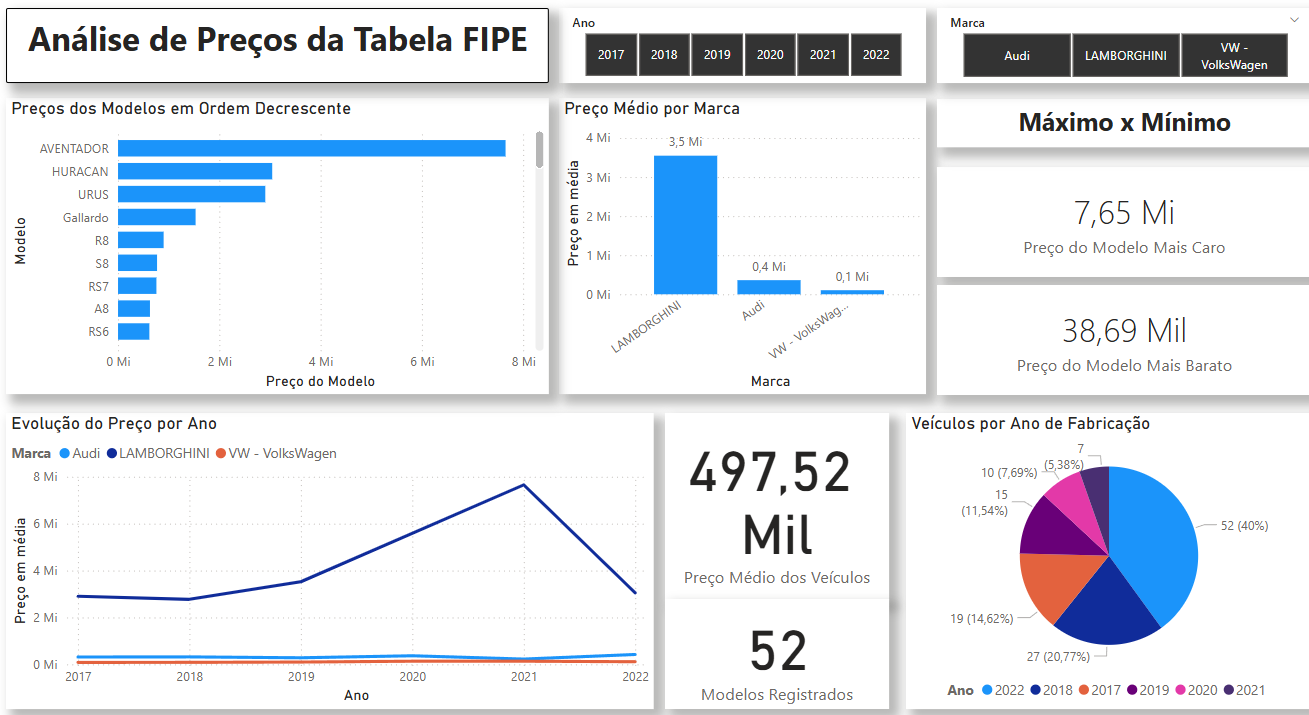

This screenshot's page, from the dashboard's own definition file:
{"tool":"powerbi","page":{"name":"Dashboard Fipe","canvas":[1280,720],"ordinal":0},"visuals":[{"type":"clusteredColumnChart","title":"Preço Médio por Marca","fields":{"Category":["tabela-fipe-tratado.Marca"],"Y":["Avg(tabela-fipe-tratado.Valor medio)"]},"box":[547.6,101.2,357,287.9],"z":0},{"type":"slicer","fields":{"Values":["tabela-fipe-tratado.Ano Modelo"]},"box":[548,13.3,357.3,72.7],"z":1000},{"type":"lineChart","title":"Evolução do Preço por Ano","fields":{"Y":["Avg(tabela-fipe-tratado.Valor medio)"],"Category":["tabela-fipe-tratado.Ano Modelo"],"Series":["tabela-fipe-tratado.Marca"]},"box":[9.7,407.5,630.3,287.9],"z":2000},{"type":"barChart","title":"Preços dos Modelos em Ordem Decrescente","fields":{"Category":["tabela-fipe-tratado.Modelo Base"],"Y":["Max(tabela-fipe-tratado.Valor medio)"]},"box":[9.7,101.2,528.1,287.9],"z":3000},{"type":"textbox","box":[9.8,13.3,528.5,72.7],"z":4000},{"type":"card","fields":{"Values":["Max(tabela-fipe-tratado.Valor medio)"]},"box":[915.3,168.3,364.7,107],"z":5000},{"type":"card","fields":{"Values":["Min(tabela-fipe-tratado.Valor medio)"]},"box":[915.3,283,364.7,107],"z":6000},{"type":"textbox","box":[915.3,102.1,364.7,46.7],"z":7000},{"type":"card","fields":{"Values":["Avg(tabela-fipe-tratado.Valor medio)"]},"box":[650.7,407.5,217.9,180.9],"z":8000},{"type":"card","fields":{"Values":["Count(tabela-fipe-tratado.Modelo Base)"]},"box":[650.7,588.4,217.9,107],"z":9000},{"type":"pieChart","title":"Veículos por Ano de Fabricação","fields":{"Category":["tabela-fipe-tratado.Ano Modelo"],"Y":["CountNonNull(tabela-fipe-tratado.Marca)"]},"box":[885.1,407.5,394.9,287.9],"z":10000},{"type":"slicer","fields":{"Values":["tabela-fipe-tratado.Marca"]},"box":[915.1,13.3,365.3,72.7],"z":11000},{"type":"actionButton","box":[0,0,100,40],"z":12000}]}

Visuals, with their boxes in screenshot pixels (x1, y1, x2, y2), scaled from the page's 1280x720 canvas onto the 1309x715 screenshot:
"Preço Médio por Marca" clusteredColumnChart: 560:100:925:386
slicer - tabela-fipe-tratado.Ano Modelo: 560:13:926:85
"Evolução do Preço por Ano" lineChart: 10:405:654:691
"Preços dos Modelos em Ordem Decrescente" barChart: 10:100:550:386
textbox: 10:13:550:85
card - Max(tabela-fipe-tratado.Valor medio): 936:167:1308:273
card - Min(tabela-fipe-tratado.Valor medio): 936:281:1308:387
textbox: 936:101:1308:148
card - Avg(tabela-fipe-tratado.Valor medio): 665:405:888:584
card - Count(tabela-fipe-tratado.Modelo Base): 665:584:888:691
"Veículos por Ano de Fabricação" pieChart: 905:405:1308:691
slicer - tabela-fipe-tratado.Marca: 936:13:1308:85
actionButton: 0:0:102:40
